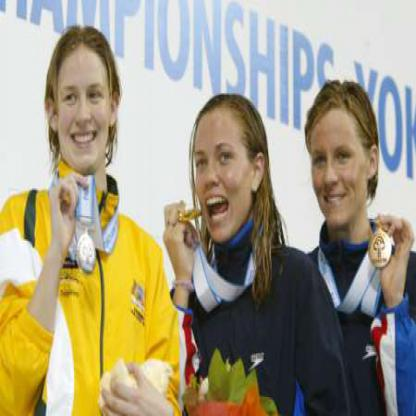face: (191, 99, 255, 245), (307, 91, 371, 231), (55, 30, 114, 173)
